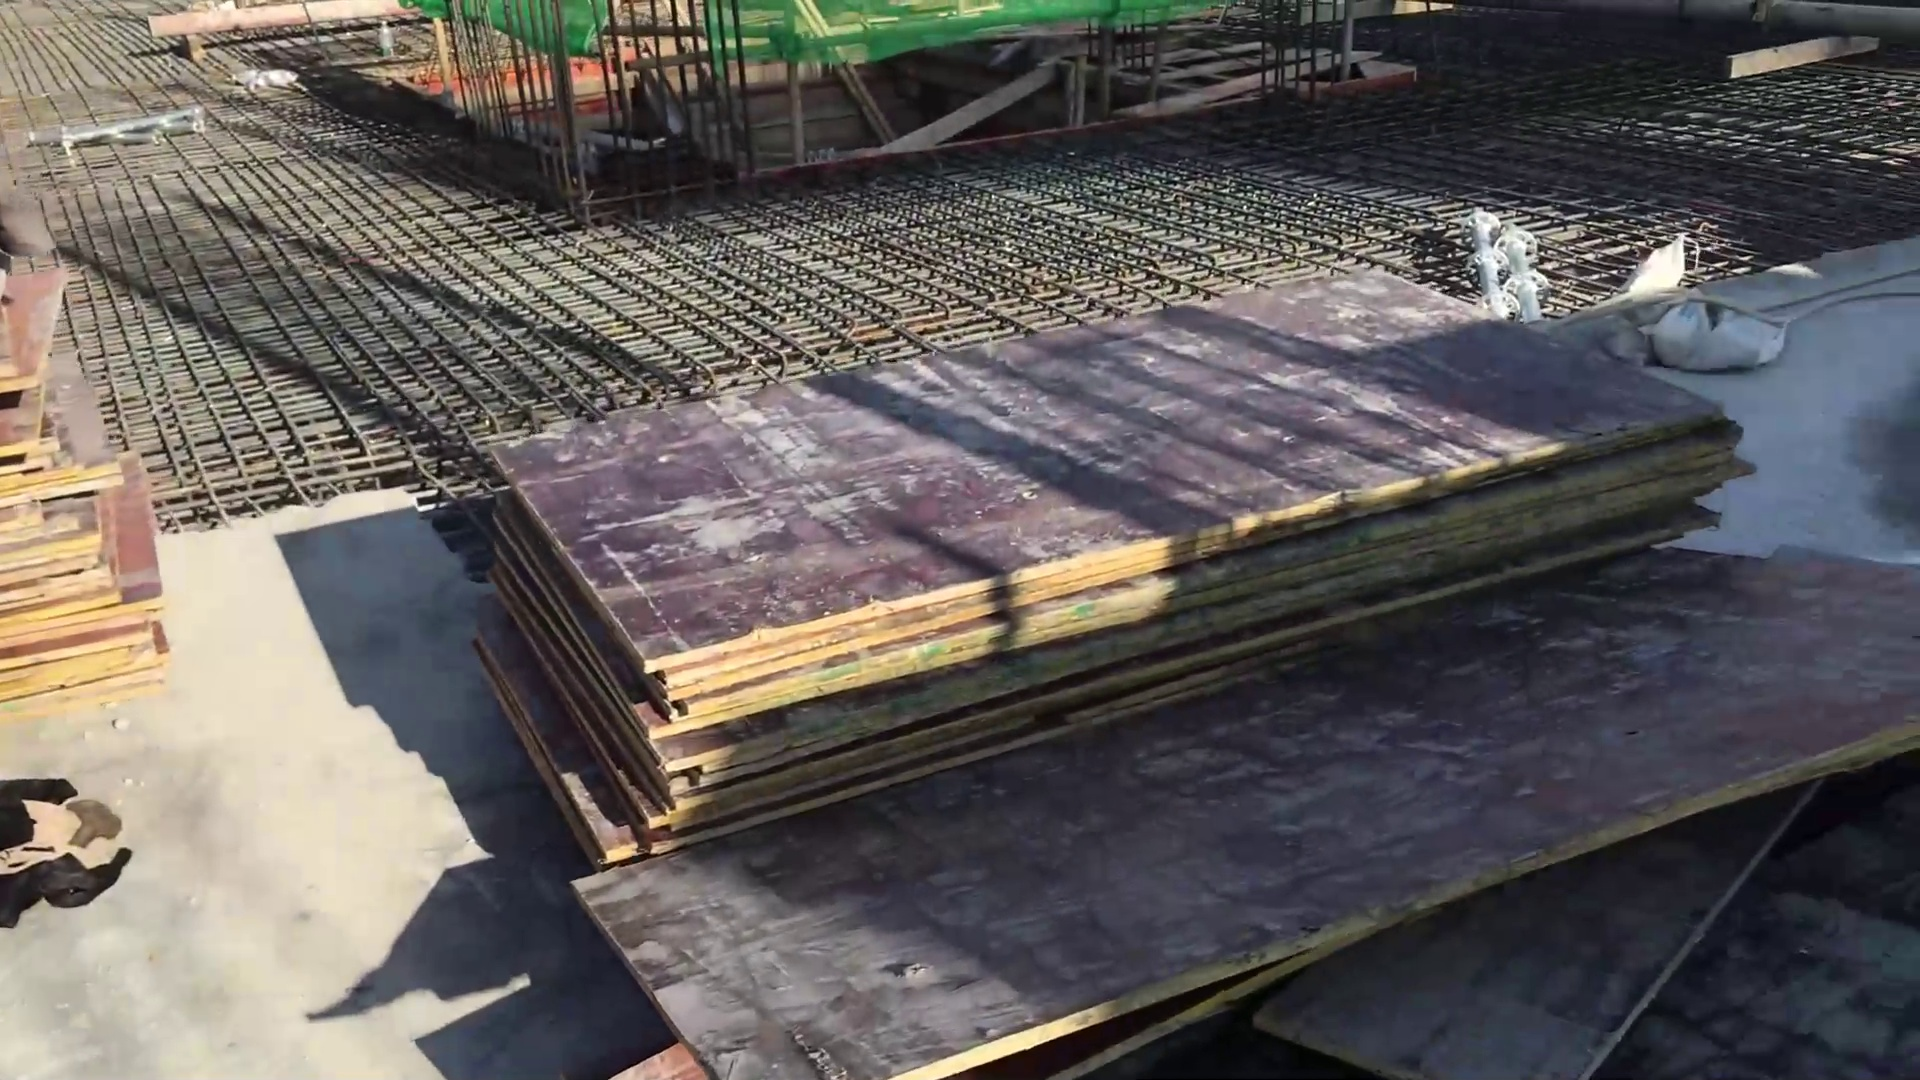board: (433, 258, 1738, 874)
